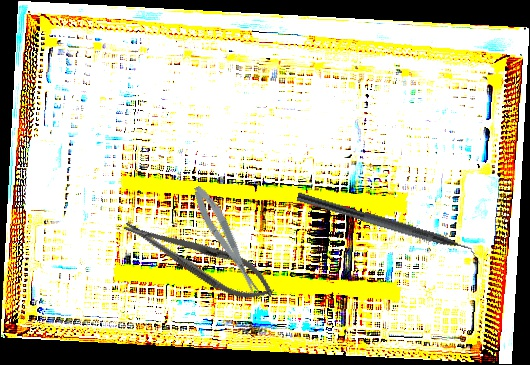Chopper: (292, 191, 486, 268)
Micro Scissor: (188, 181, 264, 300)
Needle Holder: (117, 206, 281, 312)
